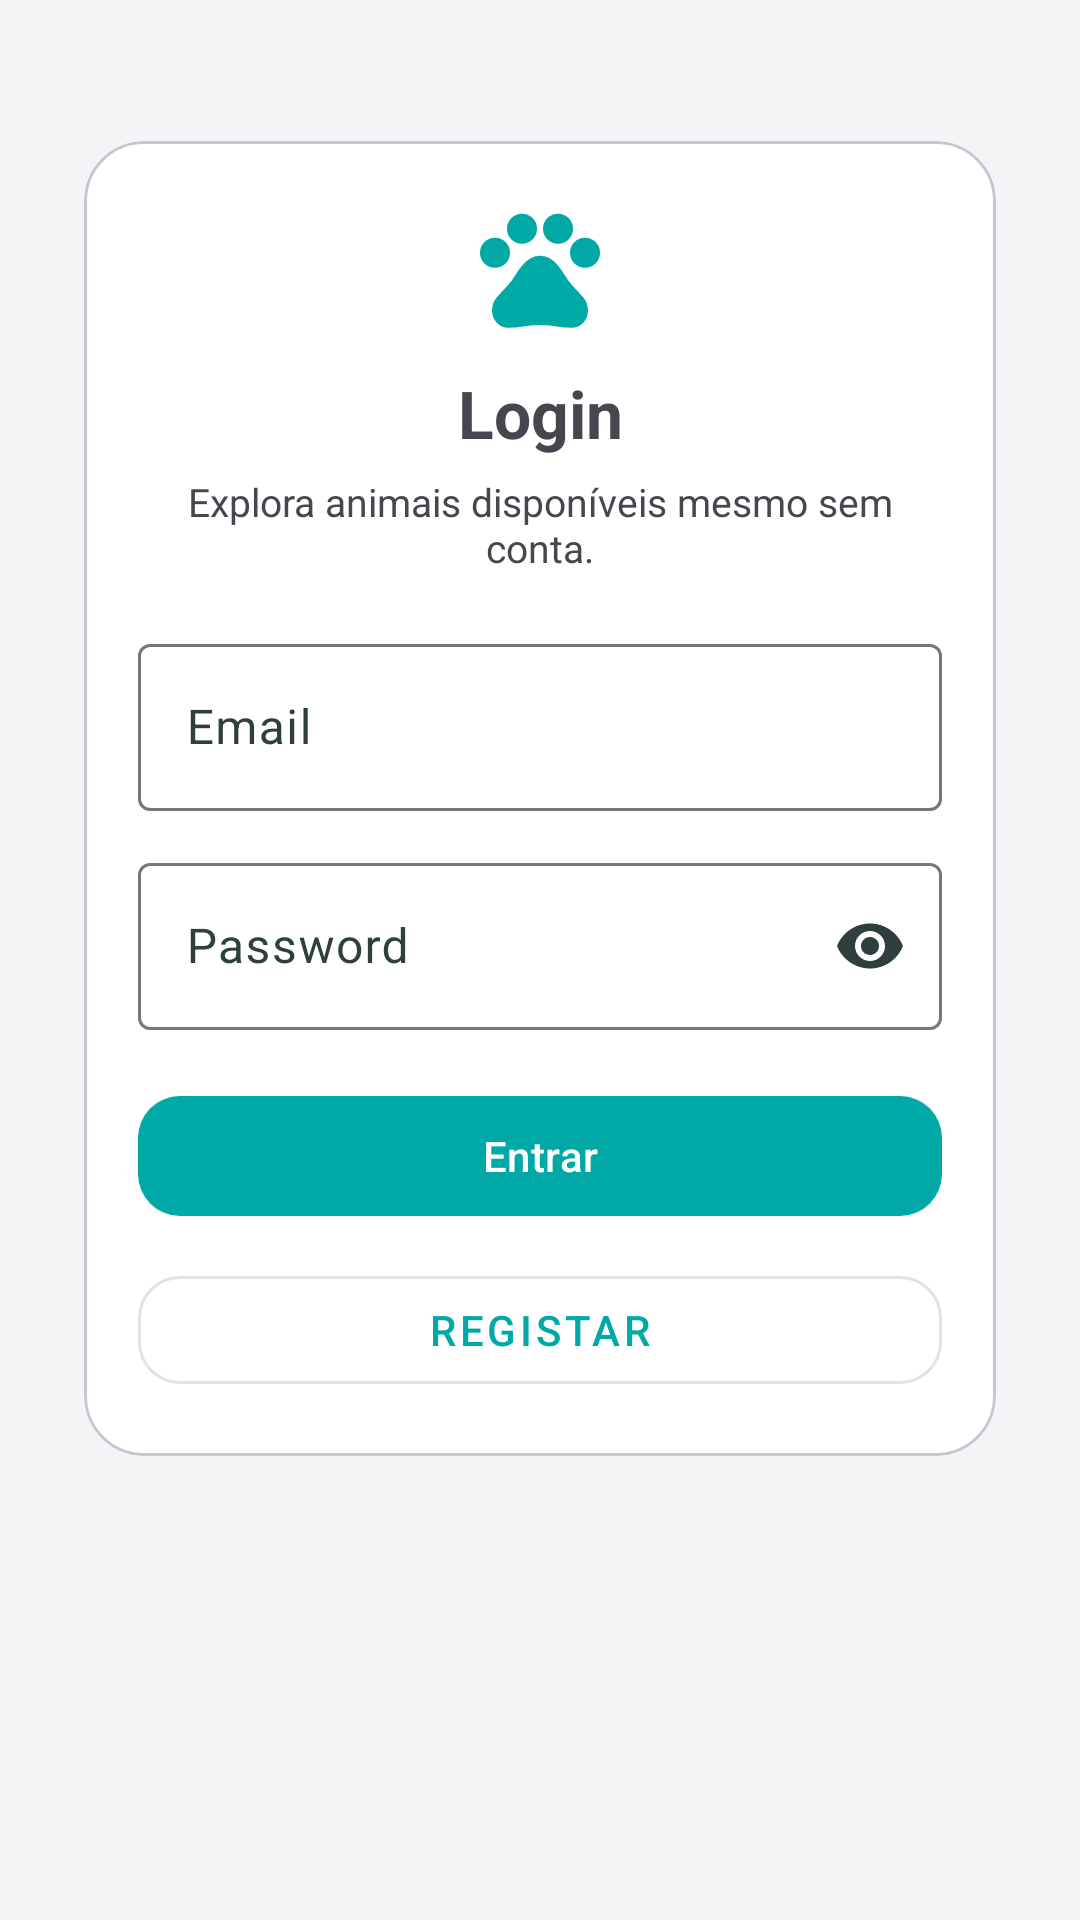

Named icons in this screenshot (1080px×1920px) and their bounding boxes, (x1, y1, x2, y2):
Imagem de destaque: (480, 213, 600, 328)
